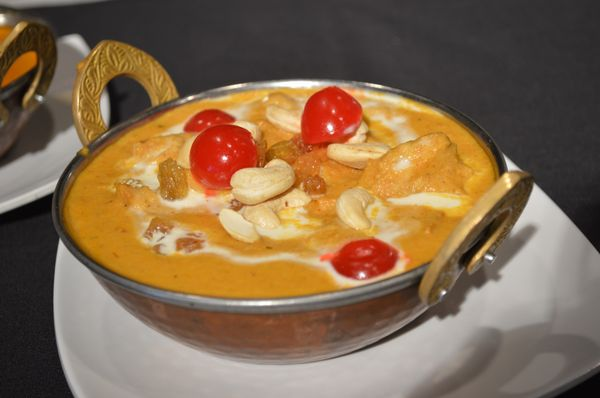sandwich: (417, 169, 536, 306)
